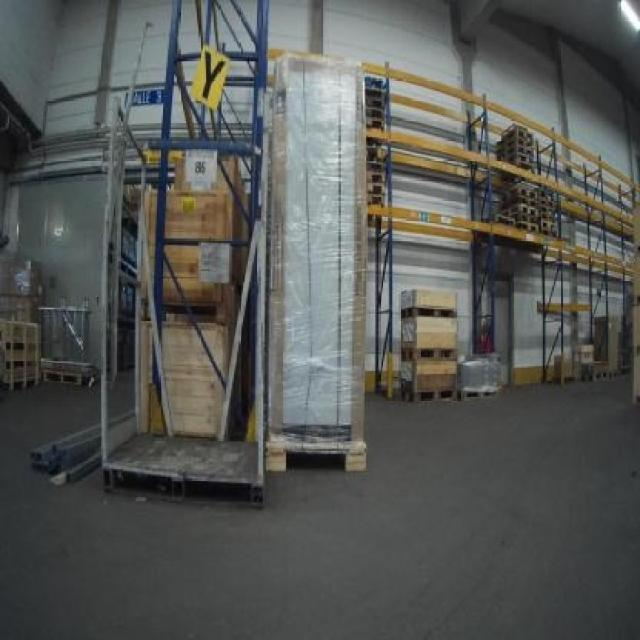floor: (0, 375, 637, 637)
pallets: (265, 52, 363, 468), (102, 432, 262, 502), (398, 288, 452, 397), (0, 317, 35, 386)
